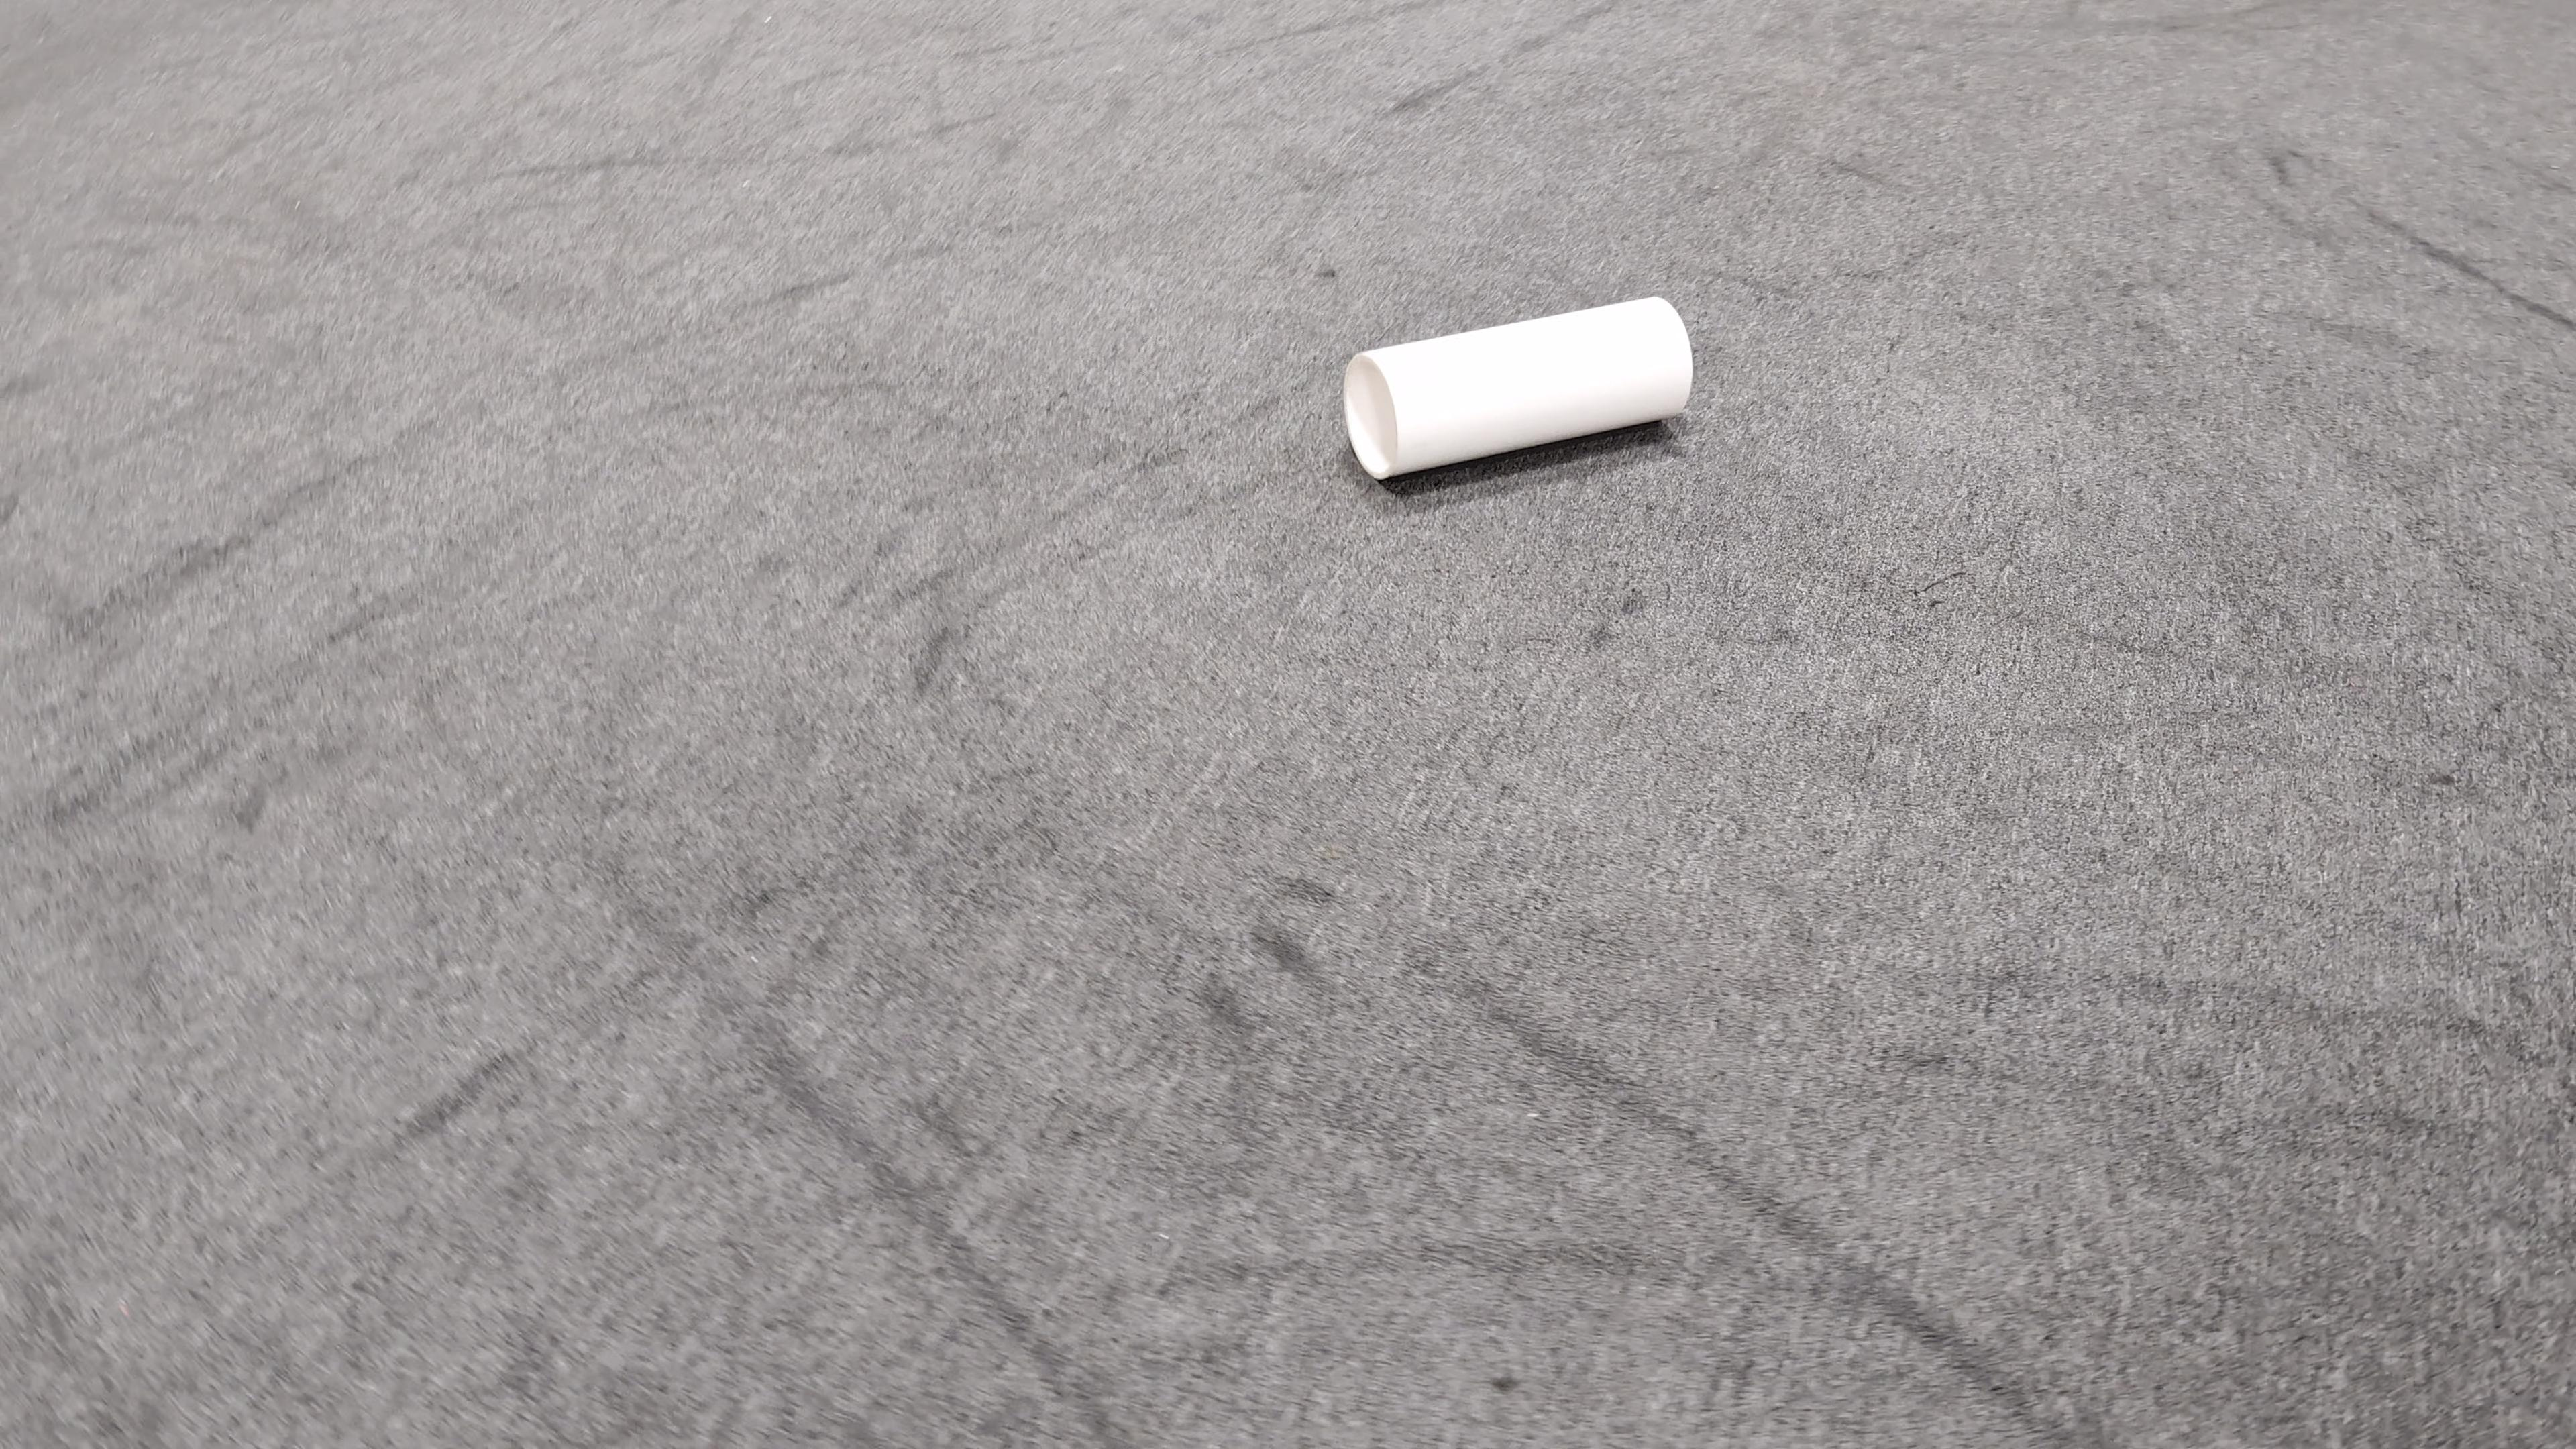coral: (1343, 294, 1693, 478)
